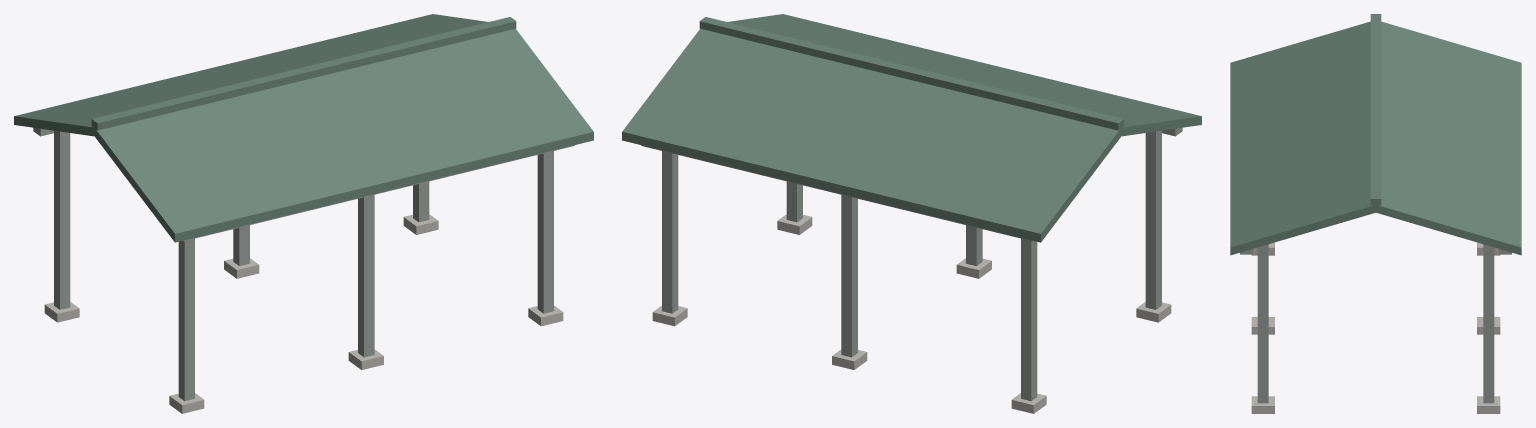
The picture shows the model from 3 angles, left to right: view 1: azimuth 30°, elevation 25°; view 2: azimuth 150°, elevation 25°; view 3: azimuth 270°, elevation 25°; orthographic projection. The views are drawn at different scales.
Parts seen in each view (by area): view 1: osm533744326__roof, osm533744326__steel, osm533744326__base; view 2: osm533744326__roof, osm533744326__steel, osm533744326__base; view 3: osm533744326__roof, osm533744326__steel, osm533744326__base.
Part boxes in pixels (box(x1,y1,x2,y2)): osm533744326__roof: box(14, 14, 593, 242); osm533744326__steel: box(33, 127, 574, 401); osm533744326__base: box(44, 214, 563, 413); osm533744326__roof: box(622, 14, 1201, 242); osm533744326__steel: box(641, 127, 1182, 401); osm533744326__base: box(652, 214, 1171, 413); osm533744326__roof: box(1230, 14, 1521, 255); osm533744326__steel: box(1240, 244, 1511, 403); osm533744326__base: box(1251, 242, 1500, 413).
Size of the model in its own units: 6.01 by 3.39 by 4.
